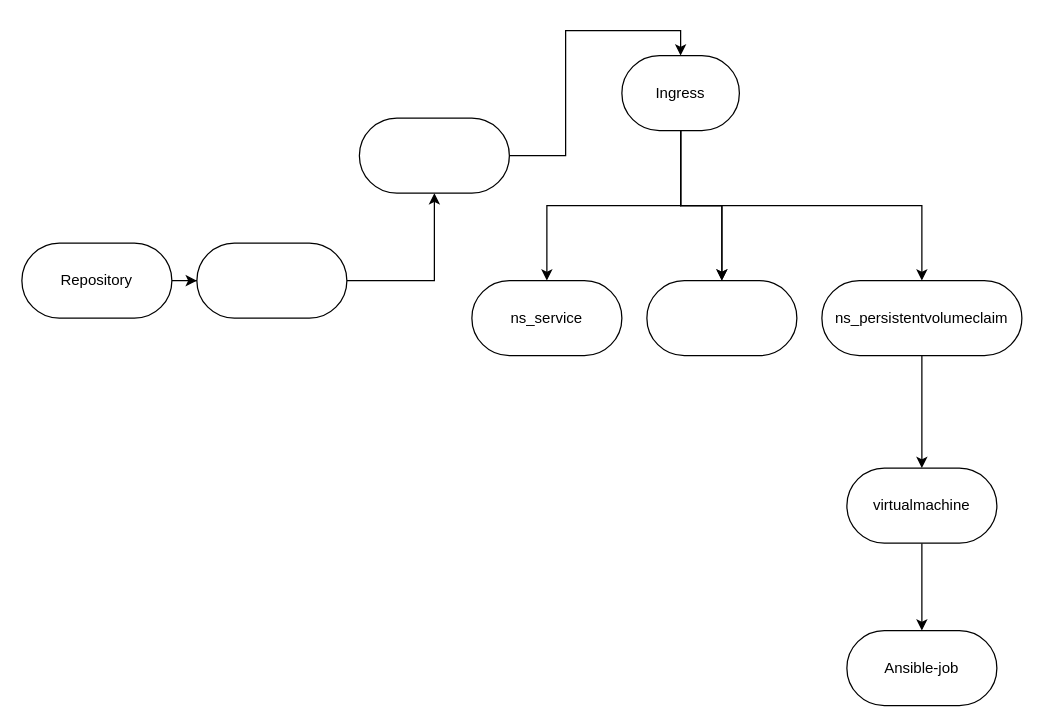
Some shapes in this 1044 by 728 pixel diagram are drawn without their labels. The shapes that lost their labels are listed below. From the top down, each one's centre as x and y in pixels, then its label:
the point at 433,155: Application
the point at 271,280: Project
the point at 721,317: ns_secret
